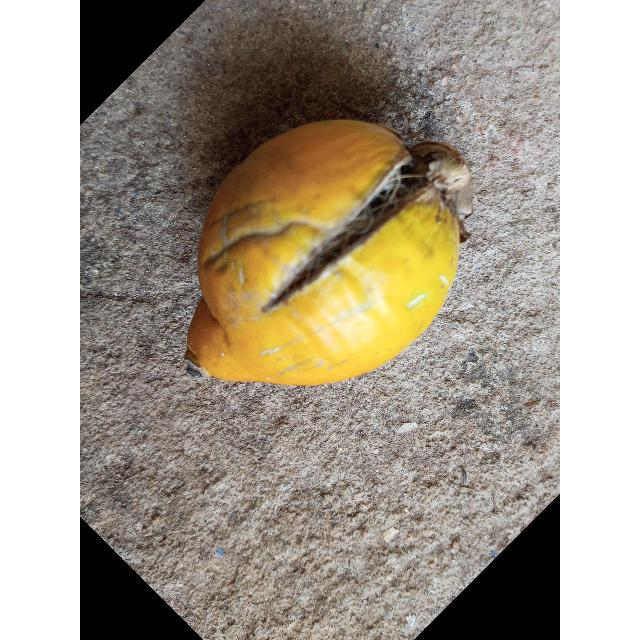damaged: (183, 118, 473, 391)
